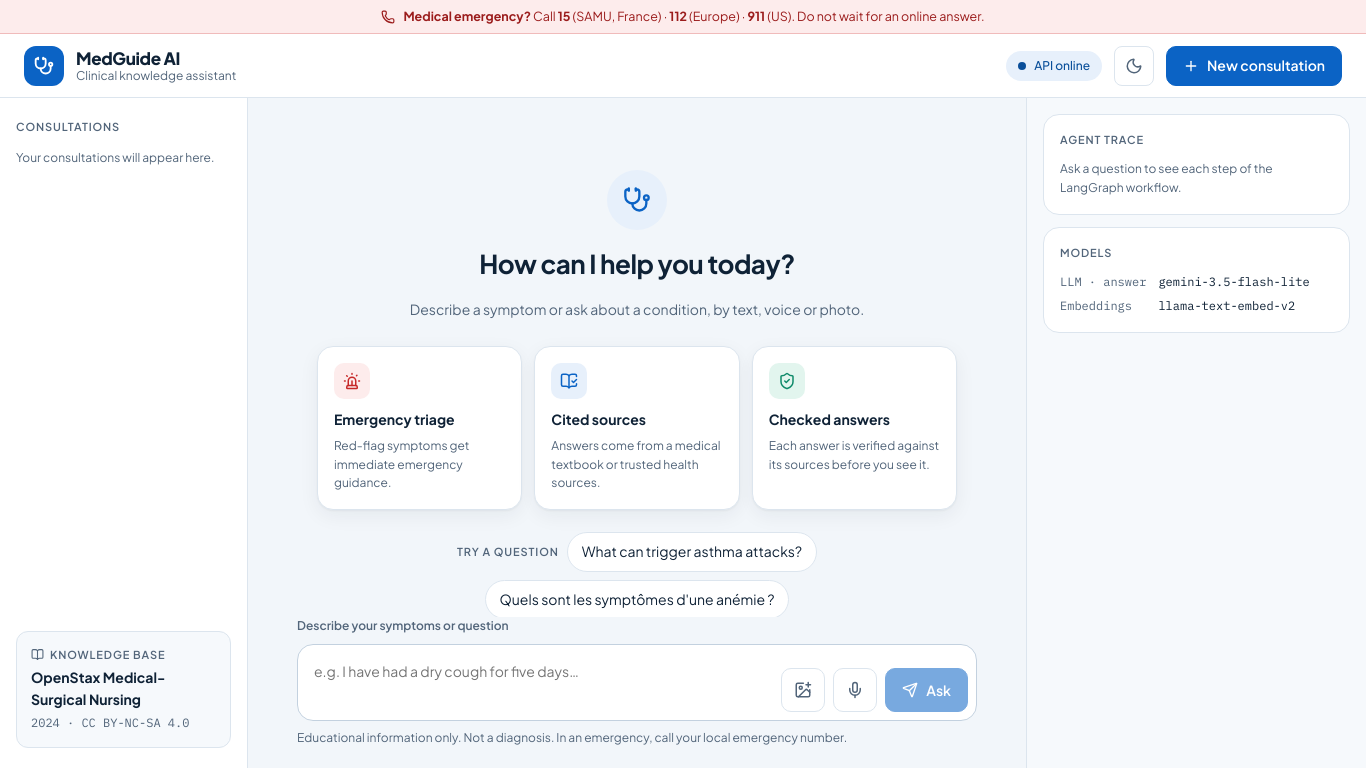
Scenario: App › highlights an emergency answer
Type "My father has crushing chest pain" into the text box labelled "Describe your symptoms or question".
click(540, 683); type("My father has crushing chest pain")  # box top-left (306, 653), bottom-right (773, 712)
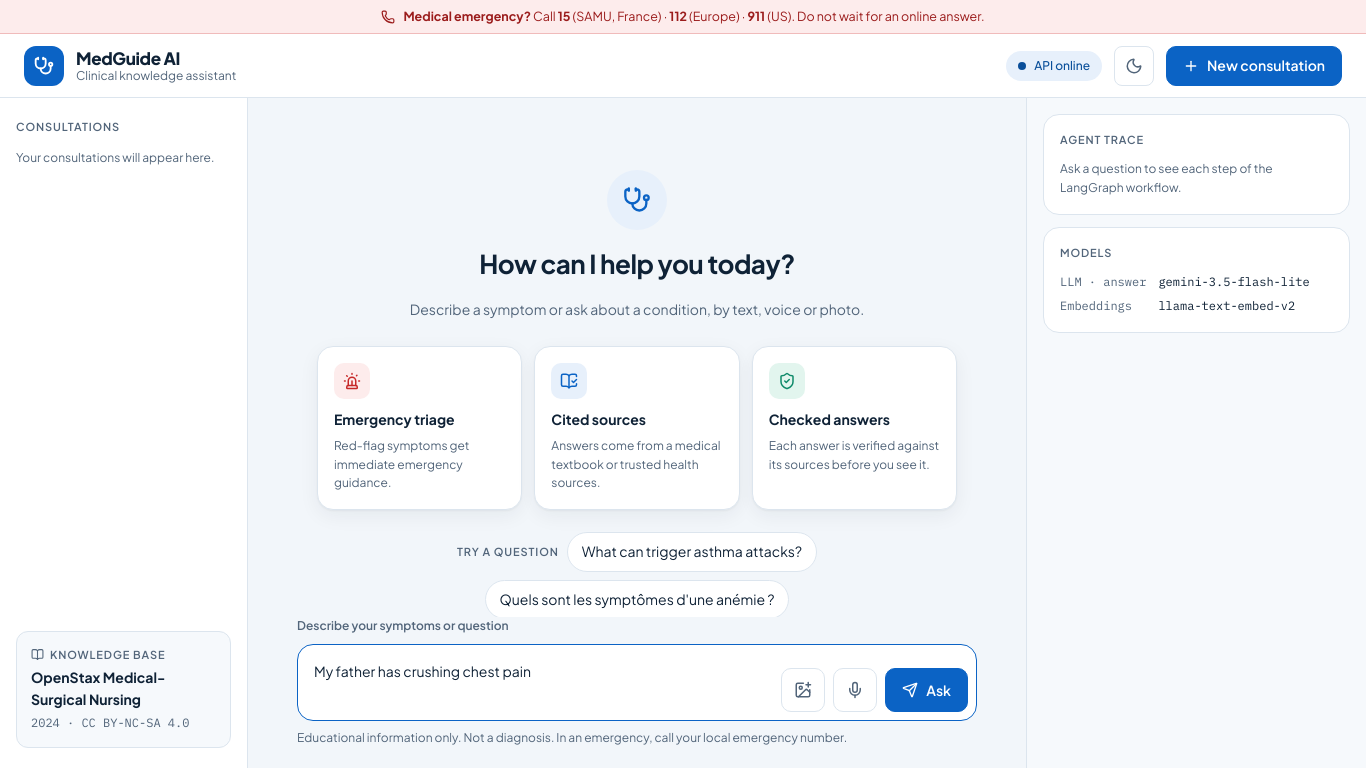
Click the button "Ask".
click(927, 690)  # box top-left (885, 668), bottom-right (968, 712)
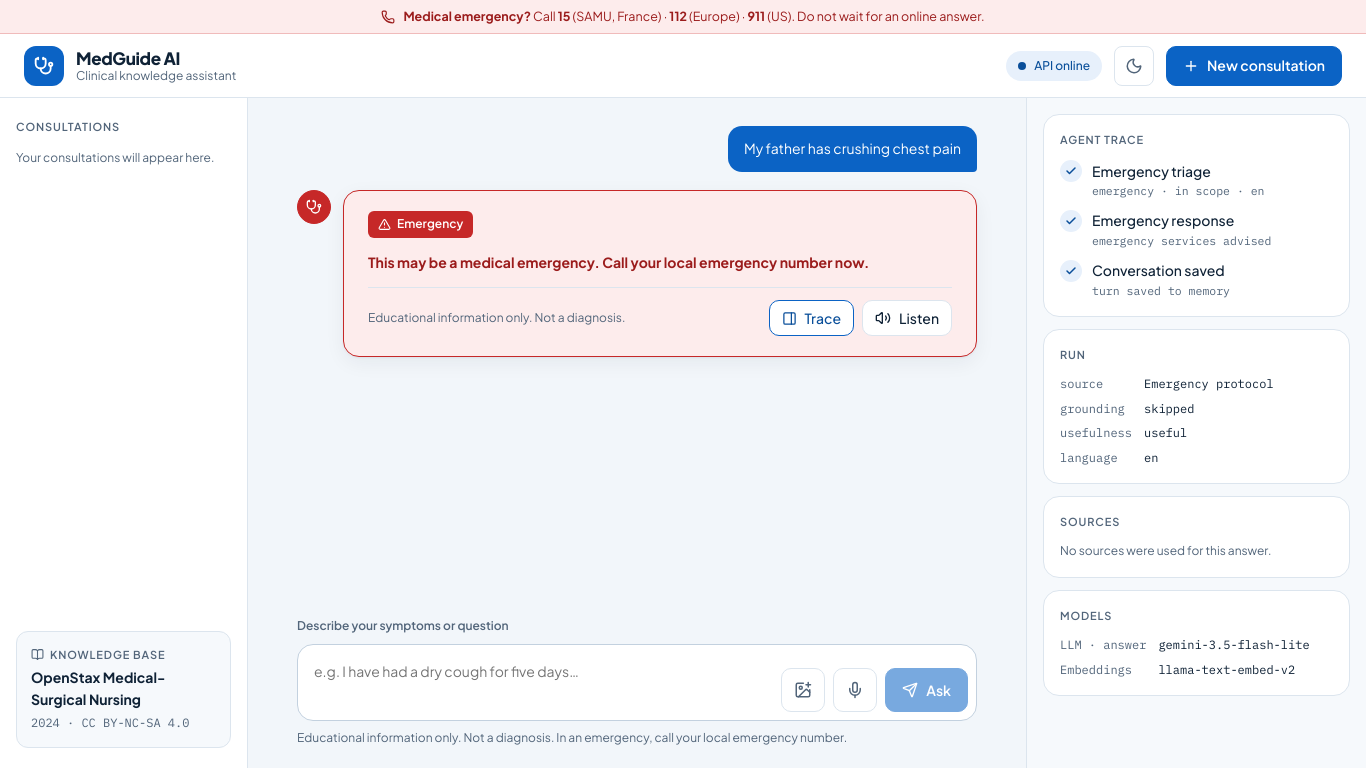
Now the text "Emergency" is shown, box top-left (368, 211), bottom-right (473, 238)
Now the text "Call your local emergency number now" is shown, box top-left (368, 253), bottom-right (869, 271)
